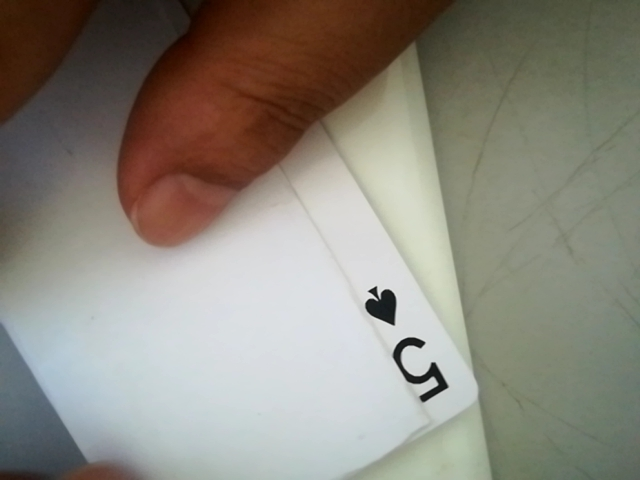ht 5: (361, 280, 469, 411)
